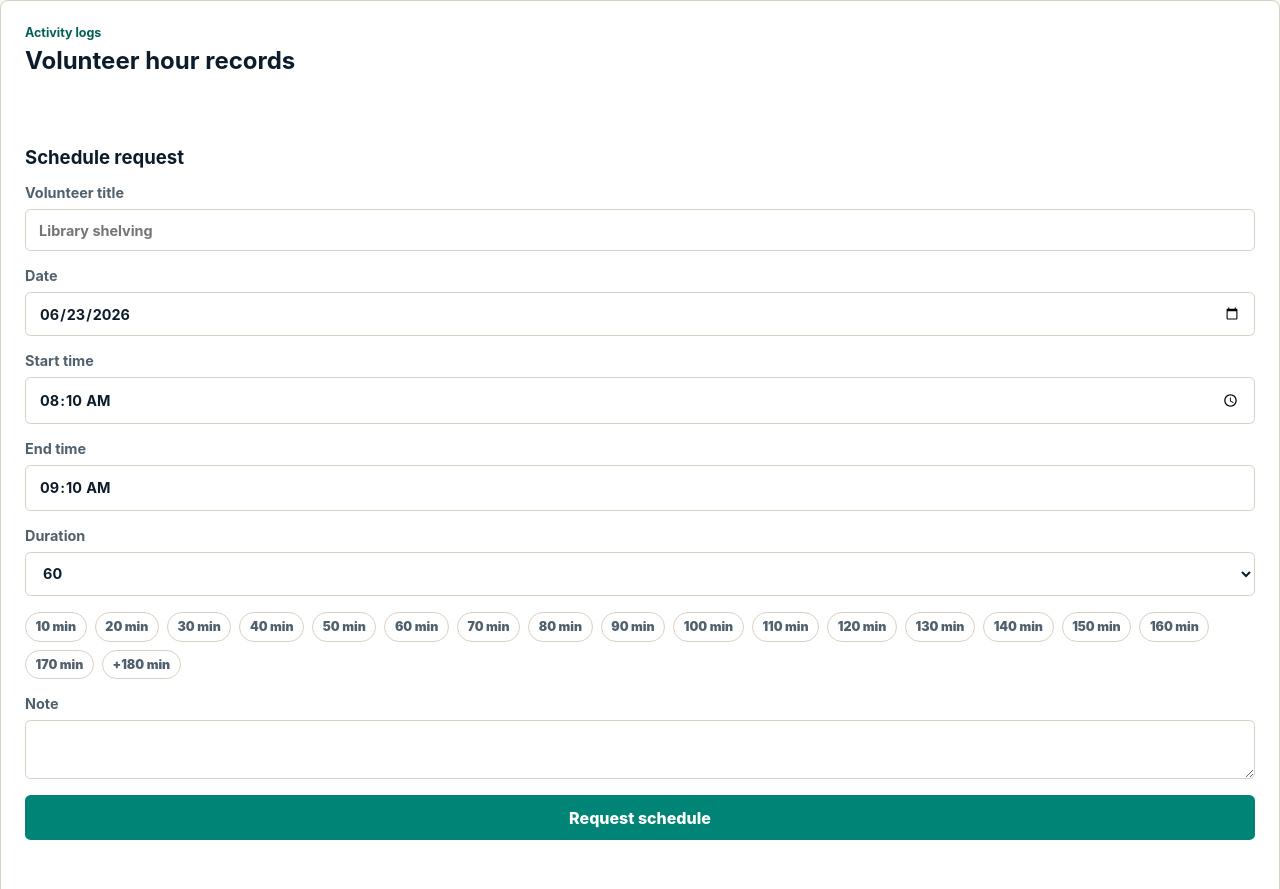
ActivityLogsScreen › offers 10-minute duration increments and derives the end time
Replace the text in the time field labelled "Start time" with "09:00": [640, 401] box 25,378 -> 1255,424
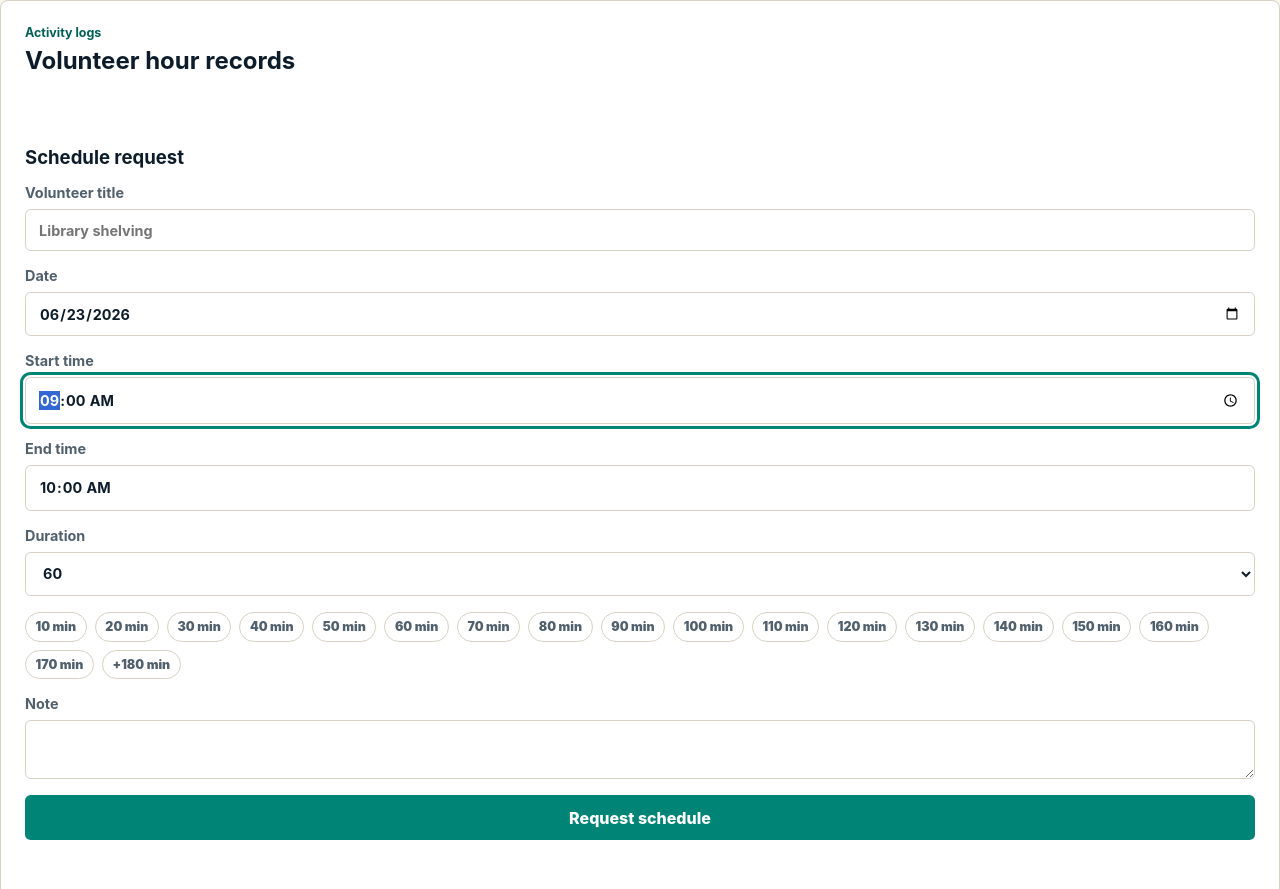
Expected: the button "10 min" is shown, 25,612 -> 87,642
Expected: the button "+180 min" is shown, 102,650 -> 181,679
Click the button "30 min": [199, 627] box 167,612 -> 231,642
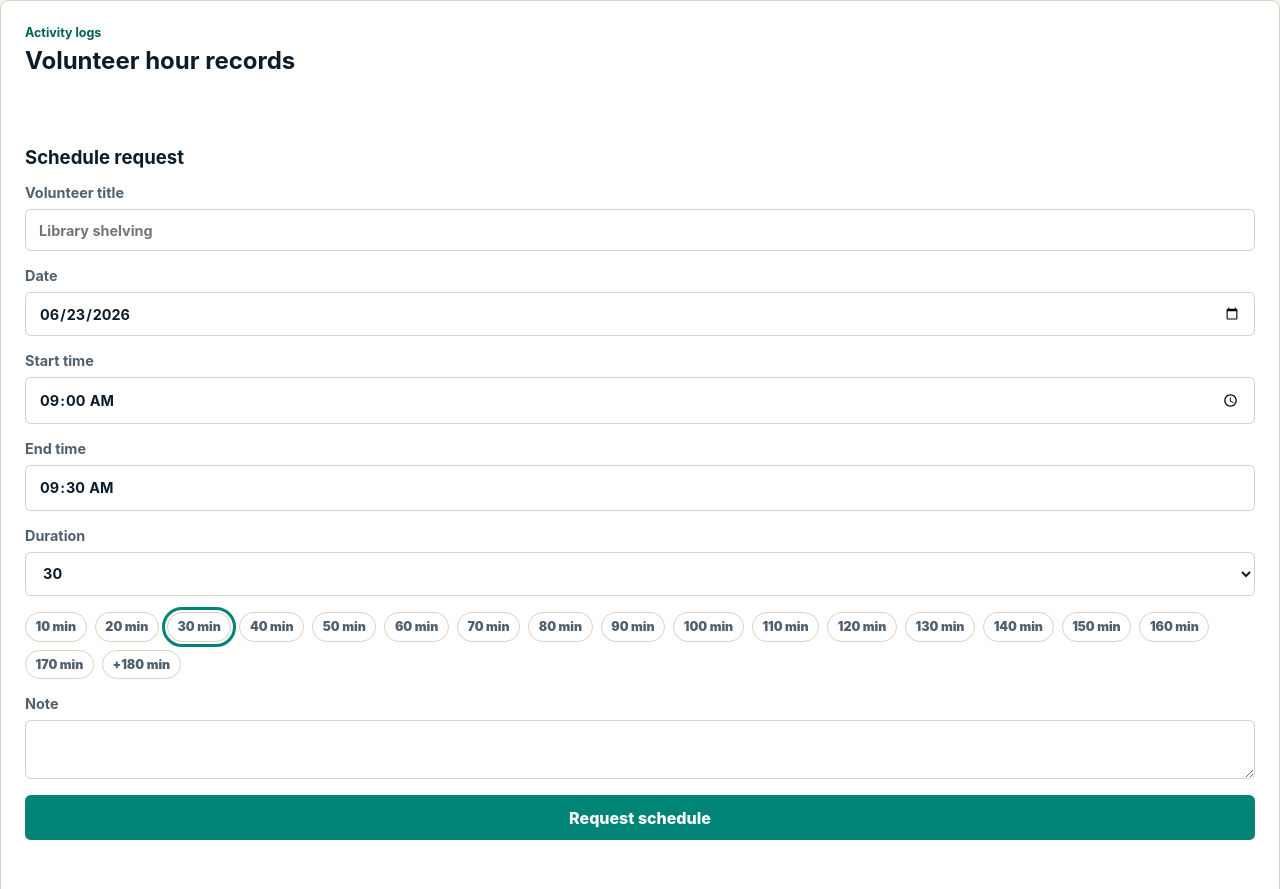
Expected: the dropdown labelled "Duration" shows "30", 25,552 -> 1255,596
Expected: the time field labelled "End time" holds "09:30", 25,465 -> 1255,511
